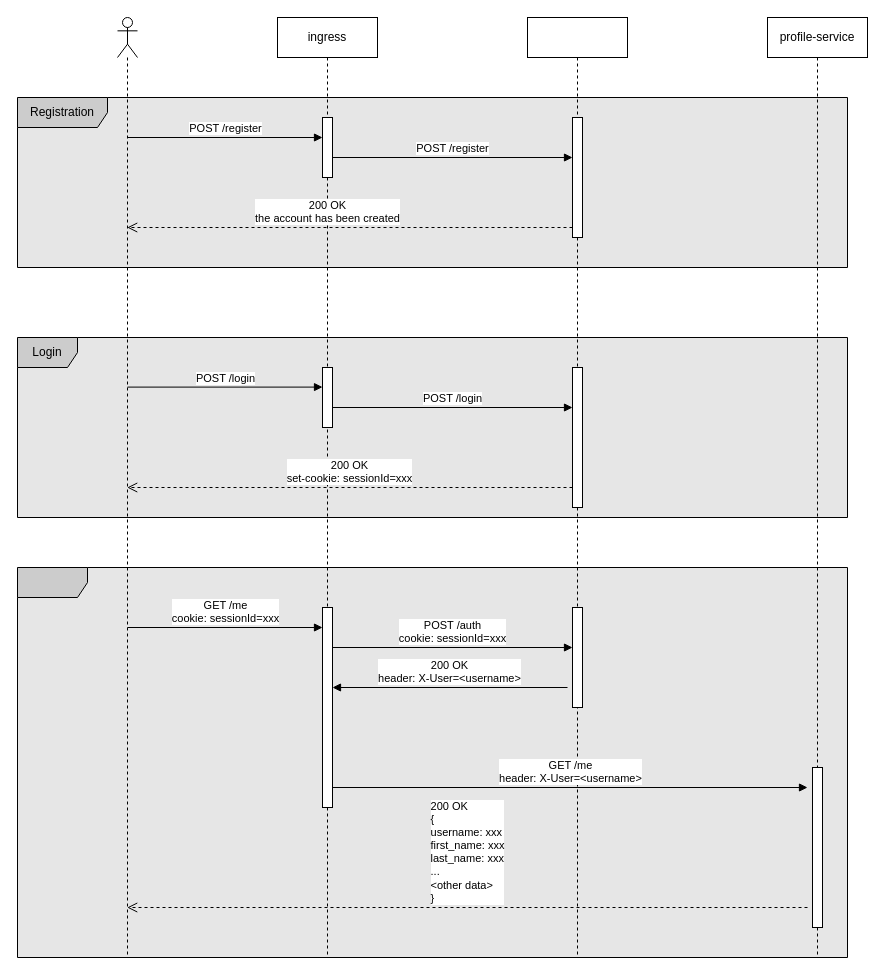
Image size: 885x975. Some labels were removed from this diagram. The shapes that lost their labels are listed below. From the top down, each one's centre as x and y in pixels, then its label:
At pixel 577 487: "auth-service".
At pixel 432 762: "Get profile".
